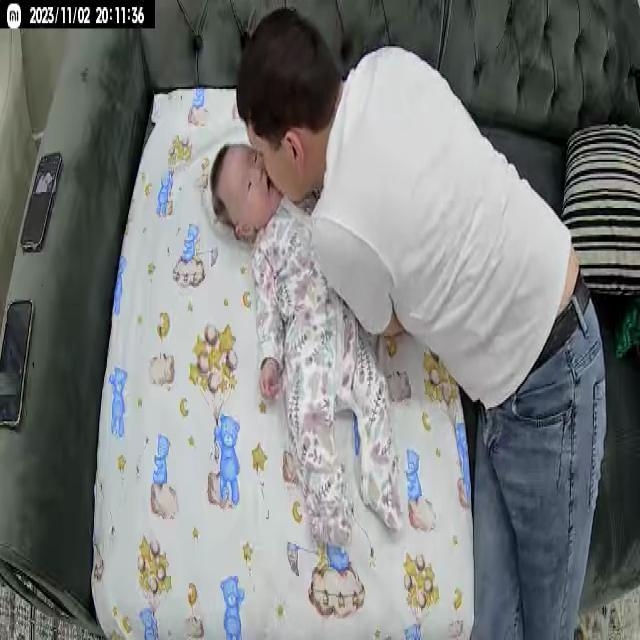baby: (208, 139, 410, 559)
